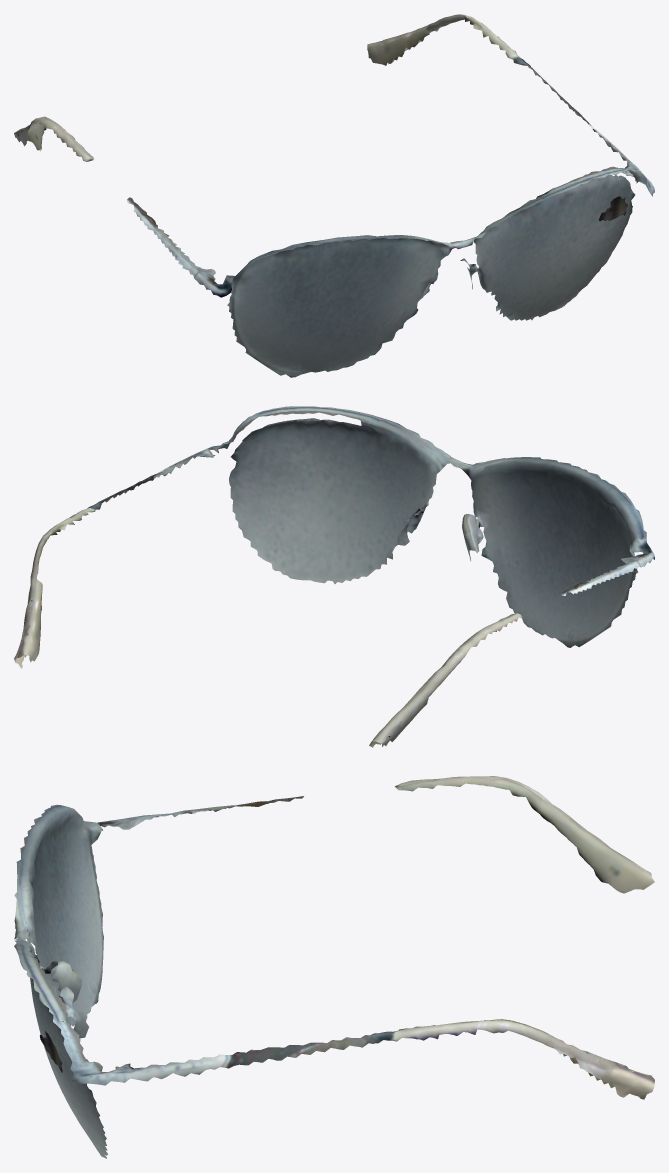
The model's file is scan_align.obj.
3 views of the same model, one above another, from view 1: azimuth 30°, elevation 25°; view 2: azimuth 150°, elevation 25°; view 3: azimuth 270°, elevation 25° (orthographic). The views are drawn at different scales.
Bounding box in the file's own units: 0.1424 × 0.0468 × 0.1487.
